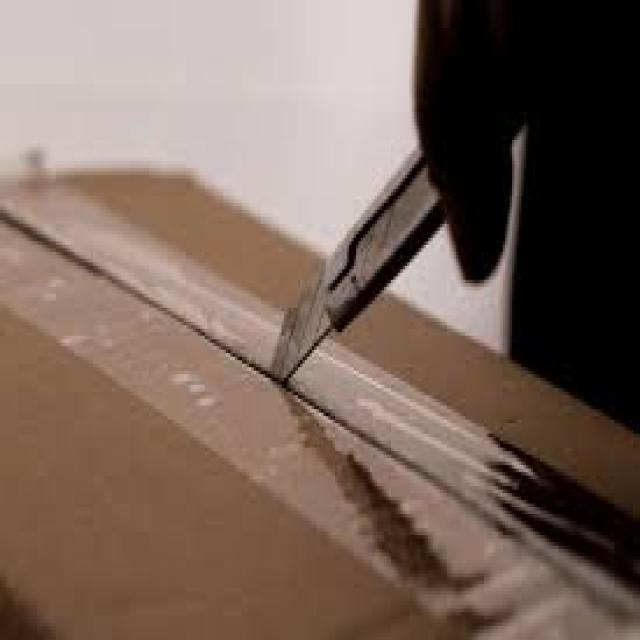cutter: (271, 74, 574, 383)
